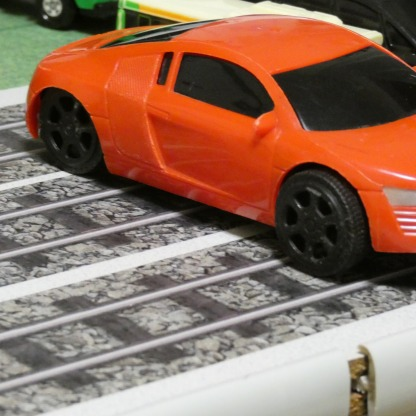car: (32, 16, 416, 277), (15, 0, 123, 25)
